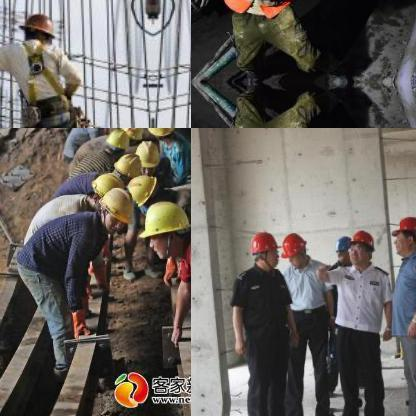Helmet: (139, 197, 185, 262), (18, 7, 60, 58), (90, 180, 134, 228), (247, 229, 279, 271), (346, 224, 376, 264), (128, 174, 168, 202), (390, 213, 415, 253), (106, 153, 144, 179), (90, 171, 119, 204), (279, 230, 307, 264), (135, 138, 157, 174), (101, 128, 125, 158), (144, 128, 174, 146), (332, 233, 350, 263)
